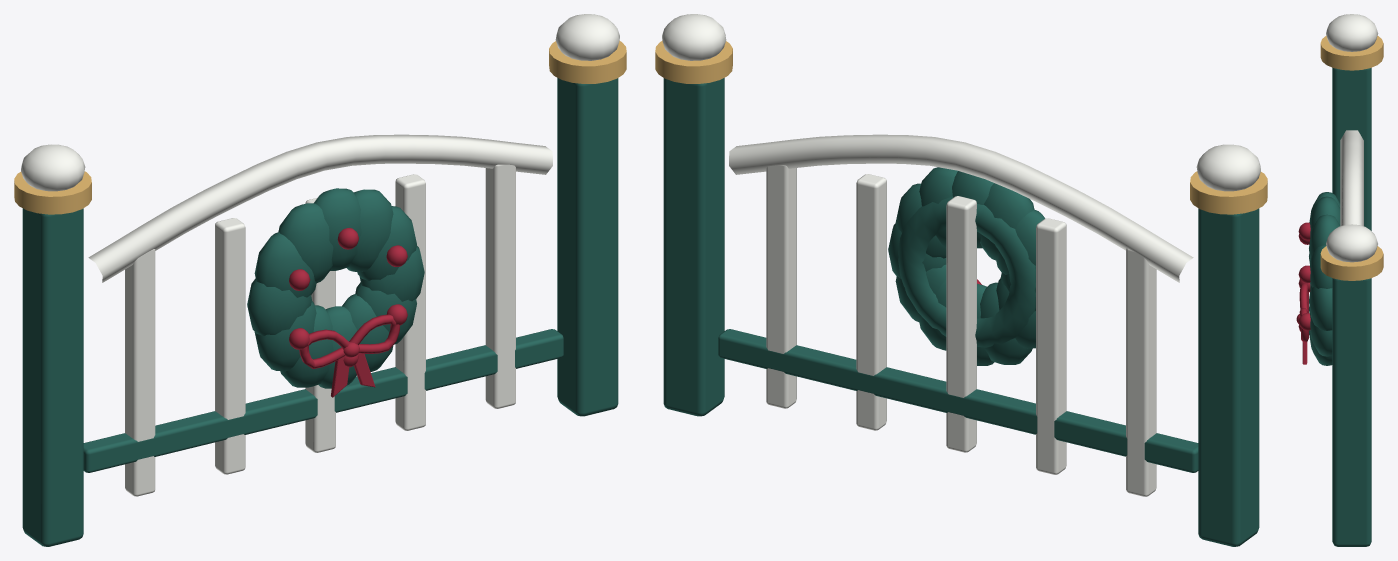
Rendered from christmas-storybook-wreath-gate-077f3dab__18708.glb.
3 renders of one model, left to right at view 1: azimuth 30°, elevation 25°; view 2: azimuth 150°, elevation 25°; view 3: azimuth 270°, elevation 25°, orthographic. The views are drawn at different scales.
Parts seen in each view (by area): view 1: pine, cream, berry, brass; view 2: pine, cream, brass; view 3: pine, cream, brass, berry.
Boxes of the visible parts, box(x1,y1,x2,y2) form: pine: box(22, 78, 618, 546); cream: box(21, 14, 619, 496); berry: box(289, 227, 407, 397); brass: box(14, 40, 626, 214); pine: box(663, 78, 1259, 546); cream: box(662, 14, 1260, 496); brass: box(655, 40, 1267, 214); pine: box(1309, 67, 1371, 546); cream: box(1326, 14, 1378, 262); brass: box(1320, 35, 1383, 280); berry: box(1296, 222, 1310, 364).
Bounding box in the file's own units: 2.14 × 1.32 × 0.332.
